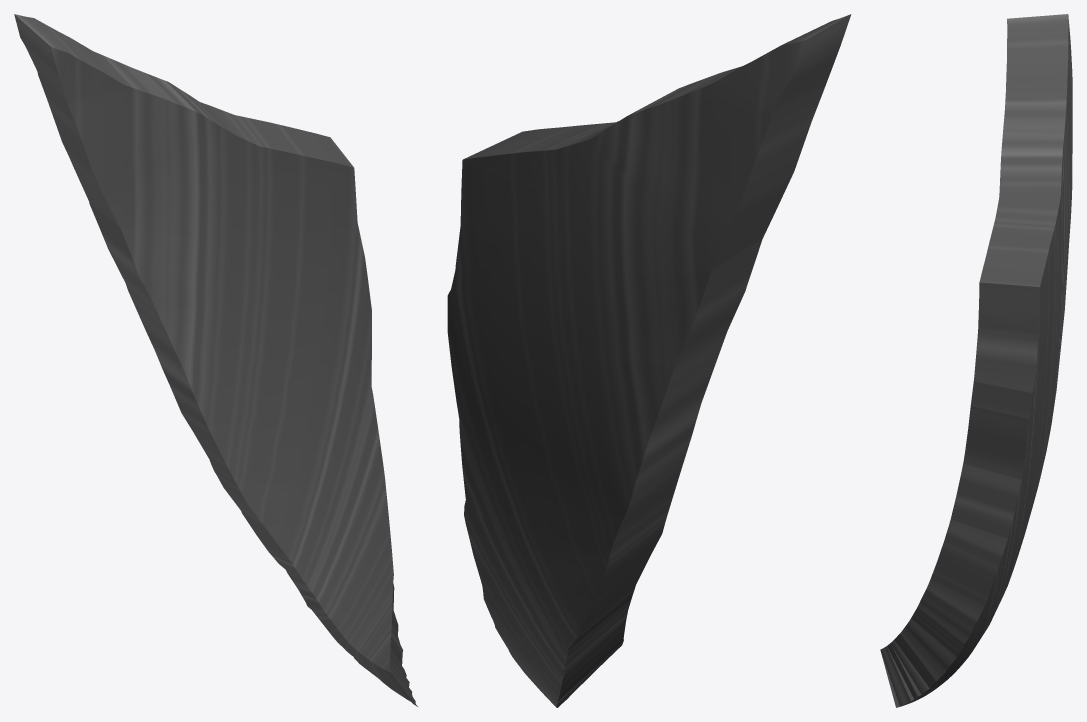
Rendered from hahen.obj.
The picture shows the model from 3 angles, left to right: view 1: azimuth 30°, elevation 25°; view 2: azimuth 150°, elevation 25°; view 3: azimuth 270°, elevation 25°; orthographic projection. The views are drawn at different scales.
Visible parts, largest first — view 1: shard13 solidShatter1; view 2: shard13 solidShatter1; view 3: shard13 solidShatter1.
Part boxes in pixels (<box>): shard13 solidShatter1: <box>14,14,417,706</box>; shard13 solidShatter1: <box>447,14,851,707</box>; shard13 solidShatter1: <box>880,14,1072,707</box>.
Bounding box in the file's own units: 1.85 × 3.8 × 1.16.
1 material, 1 textured.
